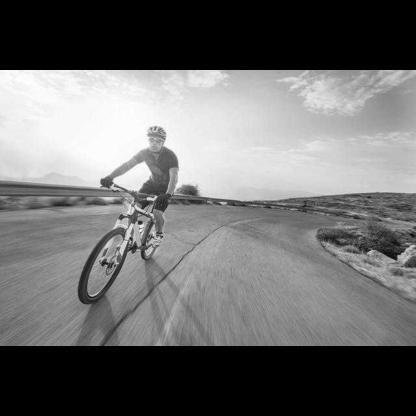Bicycle: (59, 171, 172, 308)
